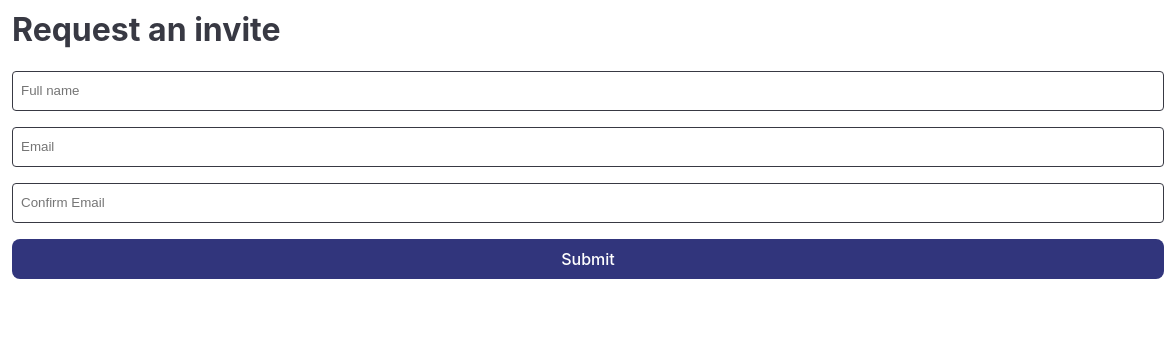
Test: InviteRequestModal › displays validation error if required fields missing
The width and height of the screenshot is (1176, 359).
Click the button with test id "submit-request-button".
click(588, 259)  # box [12,239,1164,279]
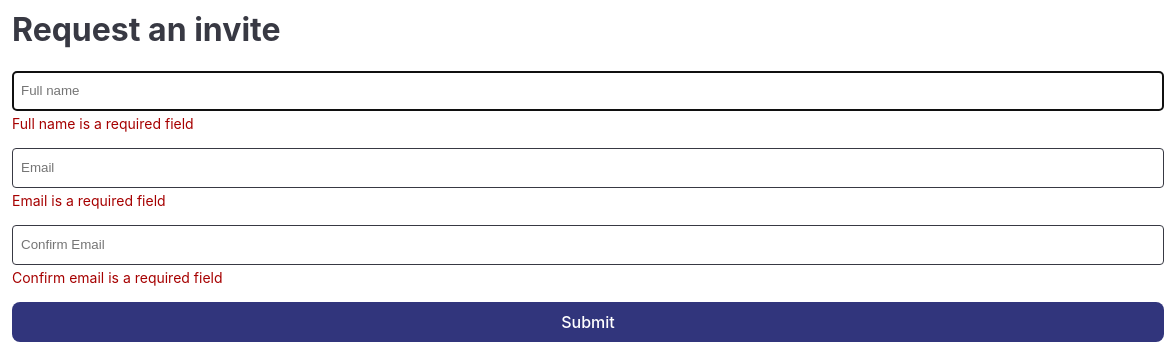
Result: the text "Full name is a required field" is shown at [12,115,194,132]
Result: the text "Email is a required field" is shown at [12,192,166,209]
Result: the text "Confirm email is a required field" is shown at [12,269,222,286]
